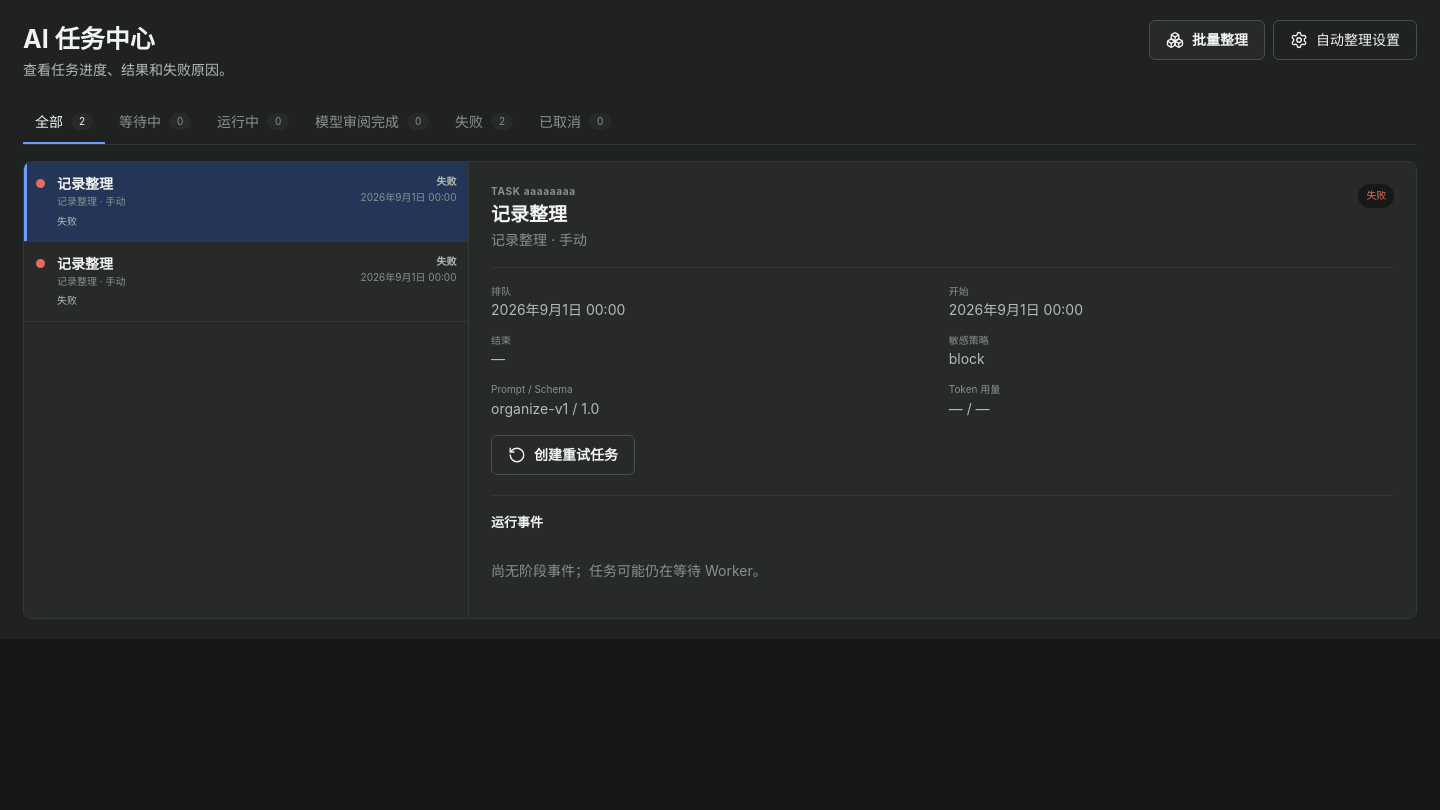
Test case: task center selection and polling ownership › does not let a late retry follow-up override the newer selection or the user-applied filter
Expected: the 2nd button "记录整理 记录整理 · 手动 失败 失败 2026年9月1日 00:00" is enabled, [24, 242, 468, 322]
Expected: the button "全部 2" is enabled, [23, 100, 105, 144]
Click the button "创建重试任务": x=563, y=455 [491, 435, 635, 475]
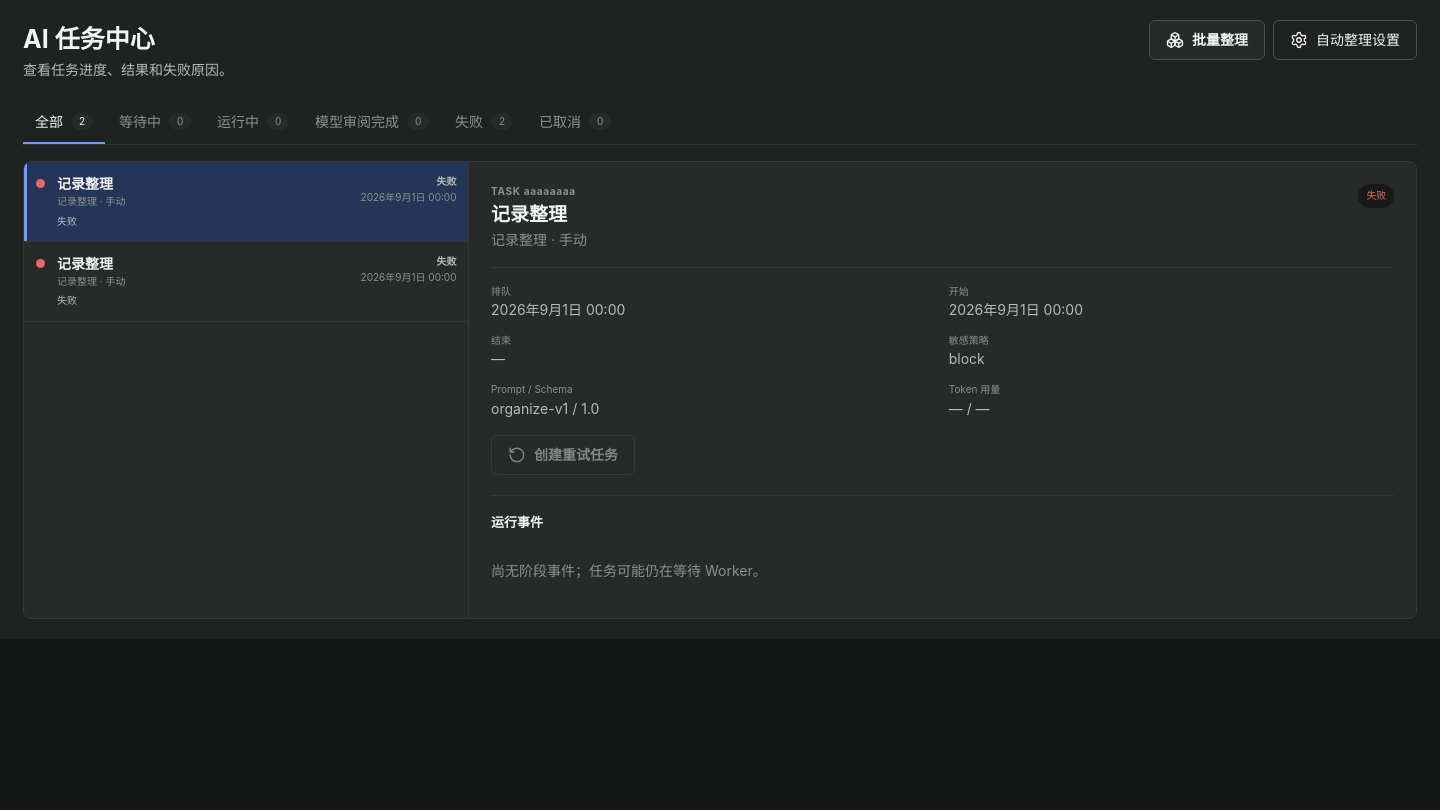
Click the 2nd button "记录整理 记录整理 · 手动 失败 失败 2026年9月1日 00:00": x=85, y=264 [24, 242, 468, 322]
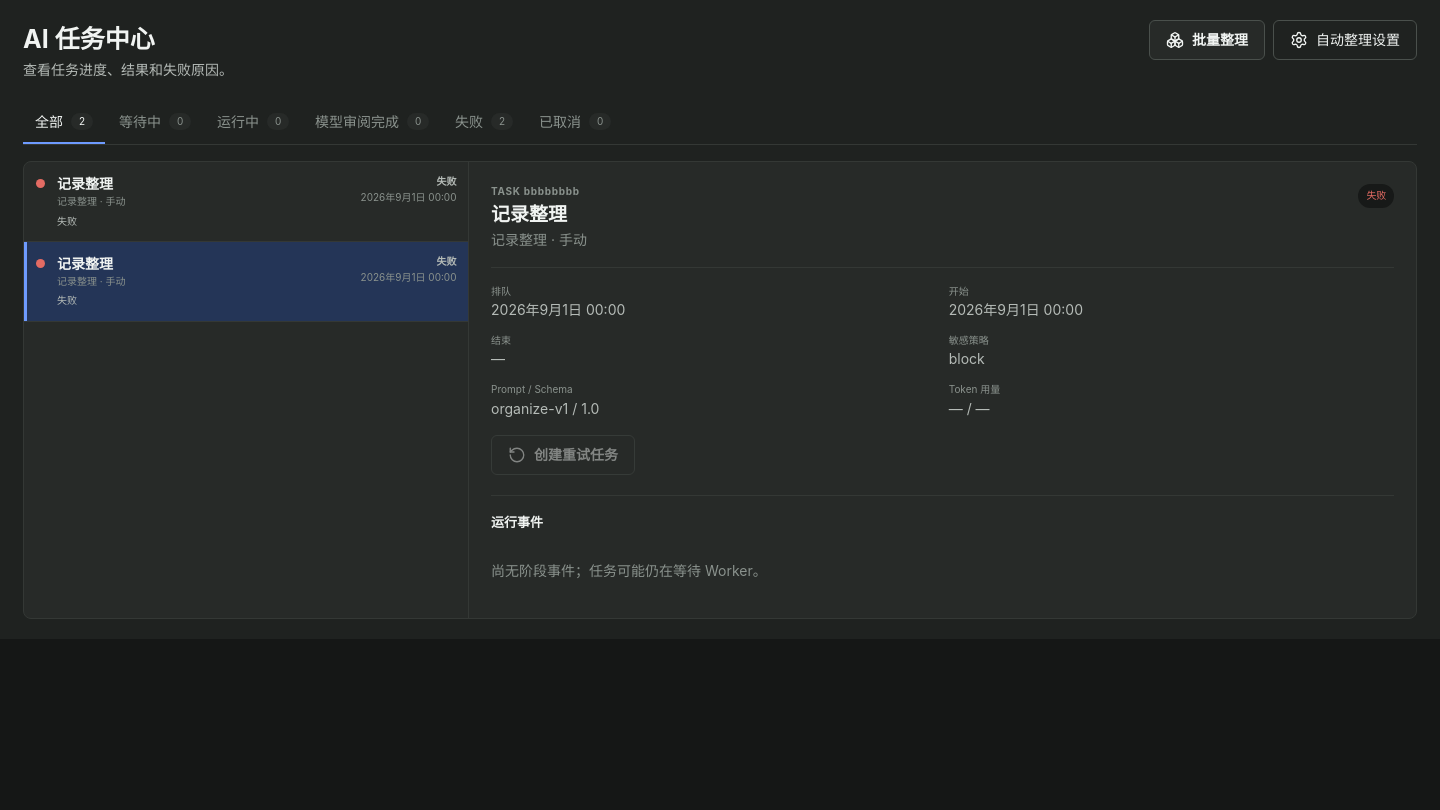
Expected: the text "TASK bbbbbbbb" is shown, [491, 184, 587, 200]
Click the button "失败 2": x=484, y=122 [443, 100, 525, 144]
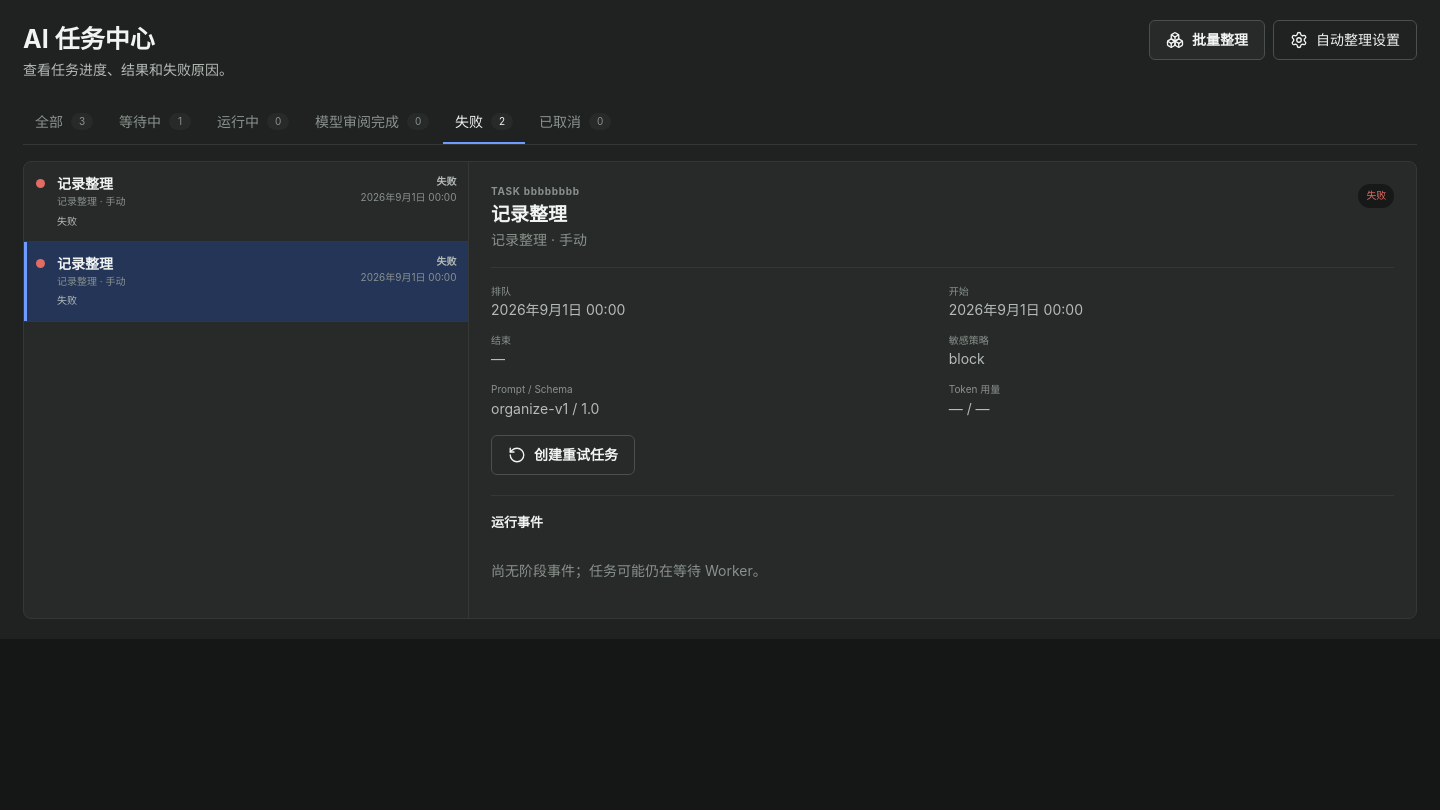
Expected: the text "TASK bbbbbbbb" is shown, [491, 184, 587, 200]
Expected: the button "创建重试任务" is enabled, [491, 435, 635, 475]
Expected: the button "全部 3" is shown, [23, 100, 105, 144]
